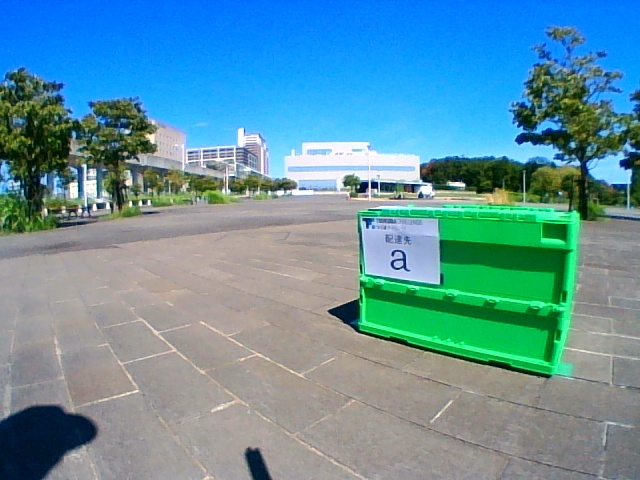green_box: (358, 205, 580, 376)
tag_a: (365, 219, 438, 275)
